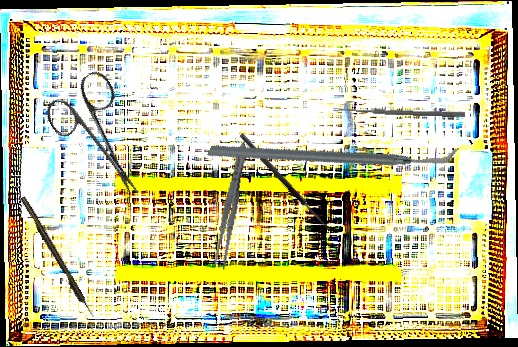Chopper: (206, 48, 460, 256)
Dressing Forceps: (210, 141, 252, 271)
Hook Surgical: (238, 128, 339, 235), (19, 195, 96, 320)
Iris Scissors: (39, 67, 167, 213)
Surgical Spoon: (332, 106, 466, 118)
